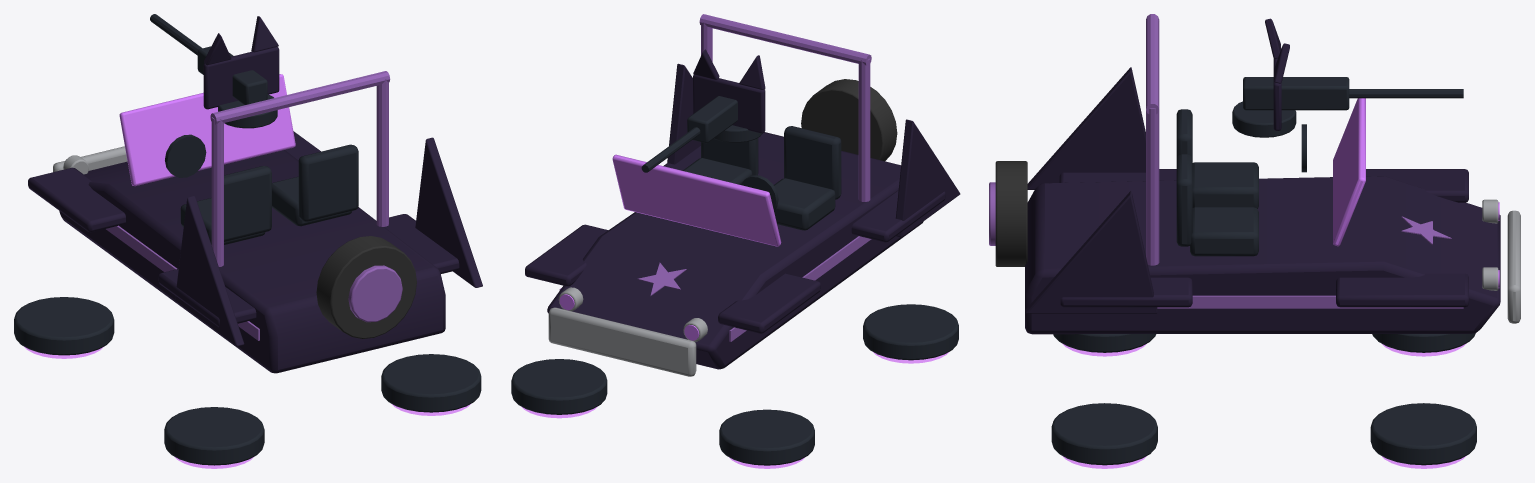
The model's file is katzen_phantom.glb.
The picture shows the model from 3 angles, left to right: view 1: azimuth 30°, elevation 25°; view 2: azimuth 150°, elevation 25°; view 3: azimuth 270°, elevation 25°; orthographic projection. The views are drawn at different scales.
Parts seen in each view (by area): view 1: chassis, windshield, spare, pad_-1_-1, pad_1_-1, pad_-1_1, fin_-1, fin_1, seatback_1, fender_-1_0.52, seatback_-1, mg_shield (+16 smaller); view 2: chassis, windshield, bullbar, spare, pad_1_1, pad_-1_-1, pad_-1_1, fin_-1, fender_-1_0.52, seatback_-1, fender_1_0.52, seat_-1 (+14 smaller); view 3: chassis, fin_1, fin_-1, pad_1_-1, pad_1_1, fender_1_0.52, spare, mg_body, seat_1, windshield, seat_-1, stripe_1 (+12 smaller).
Boxes of the visible parts, bbox=[...] form: chassis: bbox=[59, 150, 445, 373]; windshield: bbox=[119, 74, 295, 186]; spare: bbox=[316, 236, 416, 338]; pad_-1_-1: bbox=[164, 407, 264, 465]; pad_1_-1: bbox=[381, 354, 481, 412]; pad_-1_1: bbox=[14, 297, 114, 355]; fin_-1: bbox=[175, 196, 244, 346]; fin_1: bbox=[415, 137, 482, 287]; seatback_1: bbox=[298, 144, 358, 221]; fender_-1_0.52: bbox=[28, 167, 125, 232]; seatback_-1: bbox=[224, 166, 271, 241]; mg_shield: bbox=[203, 47, 279, 109]; chassis: bbox=[547, 132, 923, 369]; windshield: bbox=[612, 154, 781, 246]; bullbar: bbox=[548, 307, 696, 376]; spare: bbox=[801, 79, 897, 161]; pad_1_1: bbox=[511, 359, 607, 414]; pad_-1_-1: bbox=[863, 304, 958, 360]; pad_-1_1: bbox=[719, 409, 814, 465]; fin_-1: bbox=[895, 119, 960, 237]; fender_-1_0.52: bbox=[718, 273, 820, 333]; seatback_-1: bbox=[784, 126, 841, 199]; fender_1_0.52: bbox=[525, 224, 608, 286]; seat_-1: bbox=[773, 178, 835, 230]; chassis: bbox=[1025, 176, 1500, 334]; fin_1: bbox=[1025, 191, 1157, 313]; fin_-1: bbox=[1027, 67, 1145, 189]; pad_1_-1: bbox=[1051, 403, 1157, 465]; pad_1_1: bbox=[1370, 403, 1476, 465]; fender_1_0.52: bbox=[1336, 273, 1468, 307]; spare: bbox=[995, 161, 1027, 266]; mg_body: bbox=[1243, 77, 1349, 110]; seat_1: bbox=[1190, 207, 1258, 256]; windshield: bbox=[1333, 98, 1365, 246]; seat_-1: bbox=[1192, 162, 1258, 208]; stripe_1: bbox=[1157, 295, 1463, 308].
Size of the model in its own units: 1.4 by 1.5 by 2.
